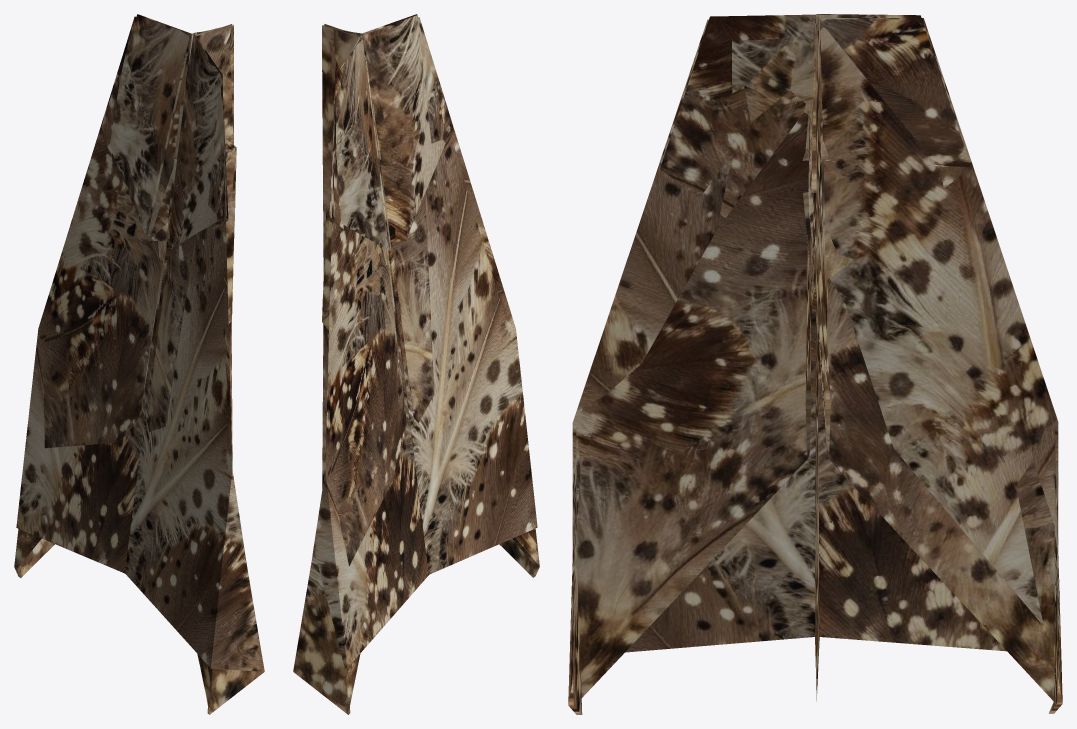
3 views of the same model, side by side, from view 1: azimuth 30°, elevation 25°; view 2: azimuth 150°, elevation 25°; view 3: azimuth 270°, elevation 25° (orthographic). The views are drawn at different scales.
Visible parts, largest first — view 1: Origami_Model_29.001; view 2: Origami_Model_29.001; view 3: Origami_Model_29.001.
Boxes of the visible parts, x1,y1,x2,y2 form: Origami_Model_29.001: [14, 14, 264, 714]; Origami_Model_29.001: [293, 14, 539, 714]; Origami_Model_29.001: [568, 14, 1062, 714].
Size of the model in its own units: 0.032 by 0.1476 by 0.0883.
Materials: 1 (1 with a texture image).
